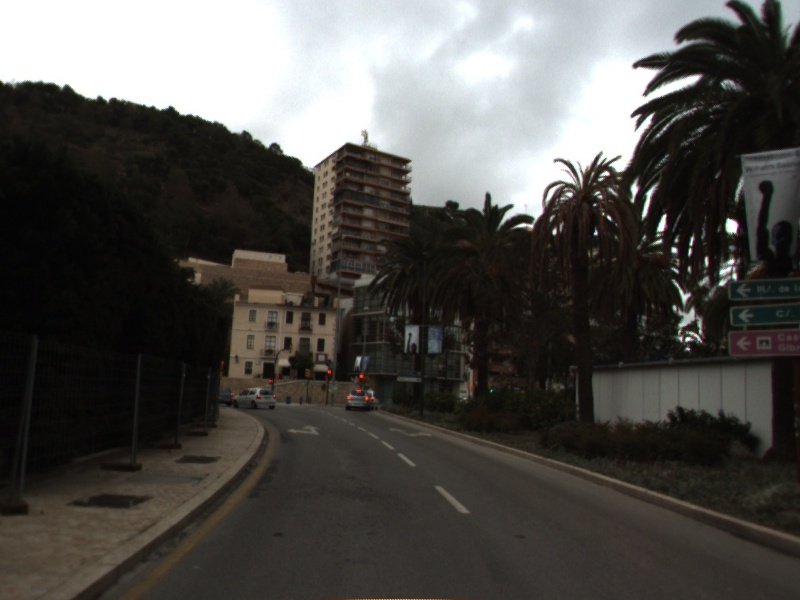STRAIGHT_LEFT: (285, 423, 323, 437)
STRAIGHT_RIGHT: (387, 424, 434, 440)
